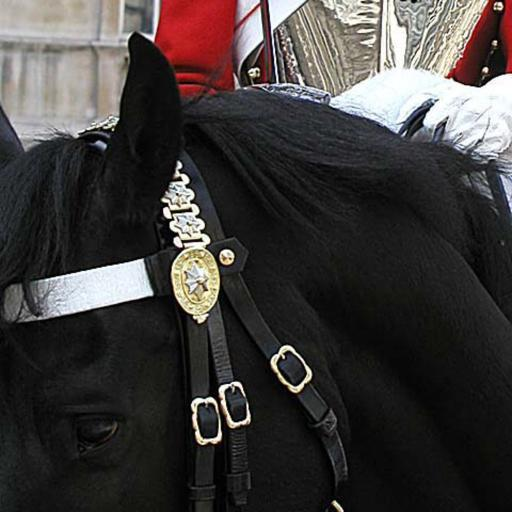horse: (0, 29, 511, 511)
